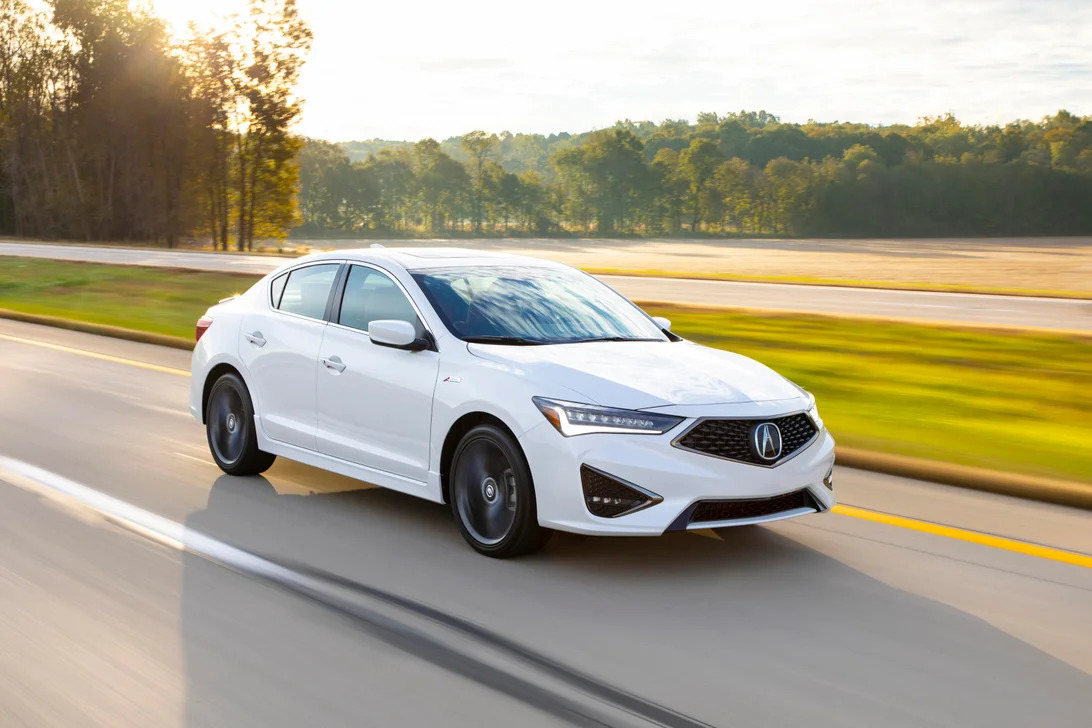Fog Lamp & Scope: (578, 476, 657, 521)
Front: (462, 350, 836, 532)
Front Bumper: (539, 464, 834, 531)
Grill: (681, 424, 812, 462)
Headlight: (533, 400, 675, 438)
